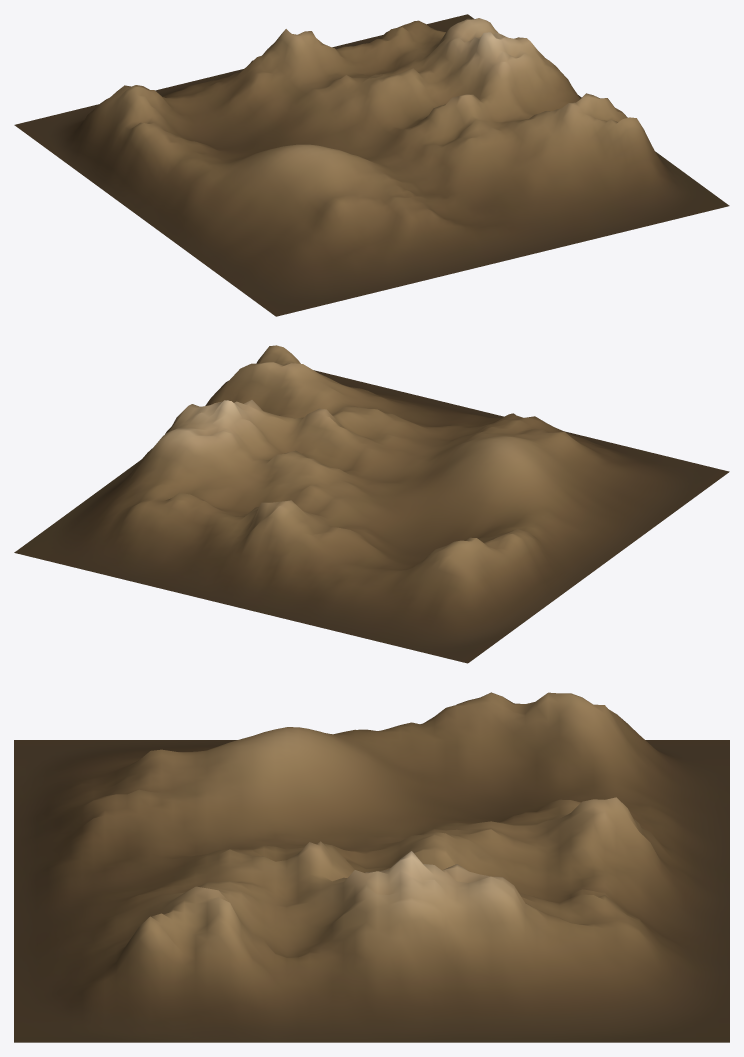
The model's file is Mountain_3D.fbx.
3 views of the same model, one above another, from view 1: azimuth 30°, elevation 25°; view 2: azimuth 150°, elevation 25°; view 3: azimuth 270°, elevation 25° (orthographic). The views are drawn at different scales.
Parts seen in each view (by area): view 1: Mountain_3D; view 2: Mountain_3D; view 3: Mountain_3D.
Part boxes in pixels (x1,y1,x2,y2): Mountain_3D: [14, 14, 729, 316]; Mountain_3D: [14, 345, 729, 663]; Mountain_3D: [14, 692, 729, 1042].
Bounding box in the file's own units: 20000 × 3839 × 20000.
